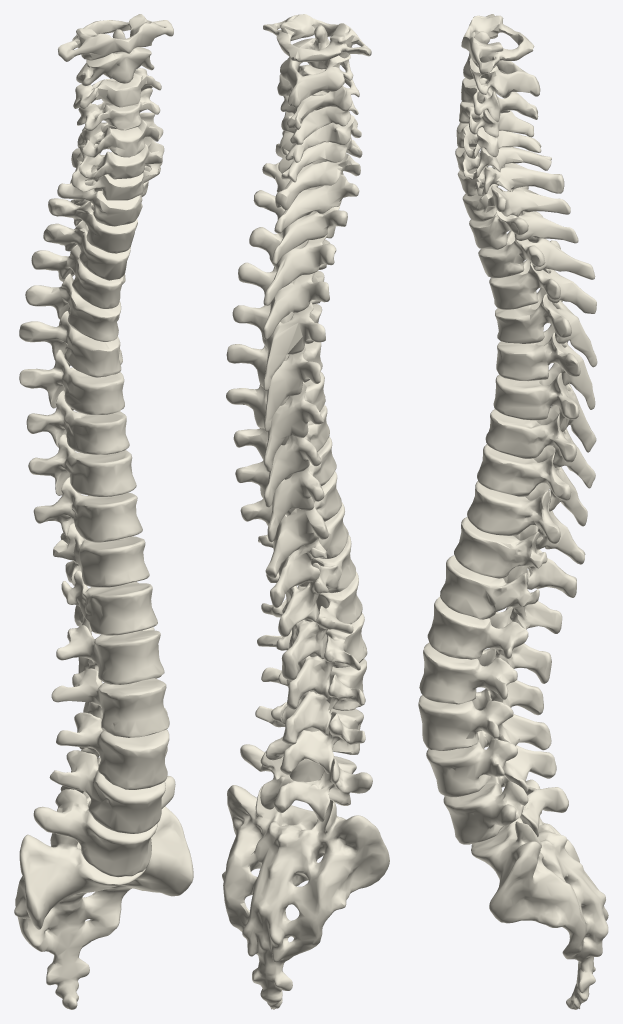
File: spine.glb
3 views of the same model, side by side, from view 1: azimuth 30°, elevation 25°; view 2: azimuth 150°, elevation 25°; view 3: azimuth 270°, elevation 25° (orthographic). The views are drawn at different scales.
Parts seen in each view (by area): view 1: bp3d_FMA16202_FJ3393, bp3d_FMA13076_FJ3168, bp3d_FMA13073_FJ3159, bp3d_FMA13074_FJ3162, bp3d_FMA13075_FJ3165, bp3d_FMA13072_FJ3157, bp3d_FMA10081_FJ3156, bp3d_FMA10037_FJ3154, bp3d_FMA10059_FJ3155, bp3d_FMA10014_FJ3175, bp3d_FMA9968_FJ3173, bp3d_FMA9991_FJ3174 (+13 smaller); view 2: bp3d_FMA16202_FJ3393, bp3d_FMA13076_FJ3168, bp3d_FMA13075_FJ3165, bp3d_FMA13072_FJ3157, bp3d_FMA13074_FJ3162, bp3d_FMA9968_FJ3173, bp3d_FMA13073_FJ3159, bp3d_FMA10037_FJ3154, bp3d_FMA10014_FJ3175, bp3d_FMA9945_FJ3171, bp3d_FMA9922_FJ3169, bp3d_FMA9991_FJ3174 (+13 smaller); view 3: bp3d_FMA16202_FJ3393, bp3d_FMA13074_FJ3162, bp3d_FMA13073_FJ3159, bp3d_FMA13072_FJ3157, bp3d_FMA13075_FJ3165, bp3d_FMA13076_FJ3168, bp3d_FMA10081_FJ3156, bp3d_FMA10059_FJ3155, bp3d_FMA10037_FJ3154, bp3d_FMA10014_FJ3175, bp3d_FMA9968_FJ3173, bp3d_FMA9991_FJ3174 (+13 smaller).
Boxes of the visible parts, x1=… form: bp3d_FMA16202_FJ3393: x1=14, y1=806, x2=193, y2=1009; bp3d_FMA13076_FJ3168: x1=33, y1=776, x2=175, y2=877; bp3d_FMA13073_FJ3159: x1=51, y1=668, x2=169, y2=737; bp3d_FMA13074_FJ3162: x1=56, y1=707, x2=169, y2=789; bp3d_FMA13075_FJ3165: x1=49, y1=747, x2=167, y2=833; bp3d_FMA13072_FJ3157: x1=56, y1=625, x2=164, y2=684; bp3d_FMA10081_FJ3156: x1=61, y1=570, x2=157, y2=635; bp3d_FMA10037_FJ3154: x1=33, y1=477, x2=142, y2=544; bp3d_FMA10059_FJ3155: x1=53, y1=523, x2=149, y2=587; bp3d_FMA10014_FJ3175: x1=28, y1=434, x2=136, y2=496; bp3d_FMA9968_FJ3173: x1=19, y1=349, x2=124, y2=414; bp3d_FMA9991_FJ3174: x1=26, y1=390, x2=129, y2=454; bp3d_FMA16202_FJ3393: x1=222, y1=785, x2=389, y2=1009; bp3d_FMA13076_FJ3168: x1=240, y1=744, x2=372, y2=822; bp3d_FMA13075_FJ3165: x1=255, y1=702, x2=365, y2=774; bp3d_FMA13072_FJ3157: x1=261, y1=571, x2=362, y2=680; bp3d_FMA13074_FJ3162: x1=261, y1=659, x2=366, y2=744; bp3d_FMA9968_FJ3173: x1=226, y1=372, x2=325, y2=471; bp3d_FMA13073_FJ3159: x1=257, y1=613, x2=367, y2=709; bp3d_FMA10037_FJ3154: x1=240, y1=471, x2=341, y2=577; bp3d_FMA10014_FJ3175: x1=235, y1=436, x2=336, y2=542; bp3d_FMA9945_FJ3171: x1=226, y1=341, x2=322, y2=431; bp3d_FMA9922_FJ3169: x1=232, y1=302, x2=325, y2=391; bp3d_FMA9991_FJ3174: x1=233, y1=405, x2=329, y2=507; bp3d_FMA16202_FJ3393: x1=471, y1=779, x2=608, y2=1009; bp3d_FMA13074_FJ3162: x1=418, y1=688, x2=551, y2=750; bp3d_FMA13073_FJ3159: x1=419, y1=642, x2=543, y2=715; bp3d_FMA13072_FJ3157: x1=427, y1=596, x2=551, y2=683; bp3d_FMA13075_FJ3165: x1=426, y1=730, x2=556, y2=797; bp3d_FMA13076_FJ3168: x1=443, y1=775, x2=568, y2=844; bp3d_FMA10081_FJ3156: x1=440, y1=555, x2=562, y2=633; bp3d_FMA10059_FJ3155: x1=454, y1=517, x2=576, y2=597; bp3d_FMA10037_FJ3154: x1=467, y1=481, x2=585, y2=564; bp3d_FMA10014_FJ3175: x1=477, y1=444, x2=587, y2=526; bp3d_FMA9968_FJ3173: x1=493, y1=363, x2=596, y2=452; bp3d_FMA9991_FJ3174: x1=485, y1=405, x2=595, y2=488.
Size of the model in its own units: 0.1178 by 0.6986 by 0.1226.
